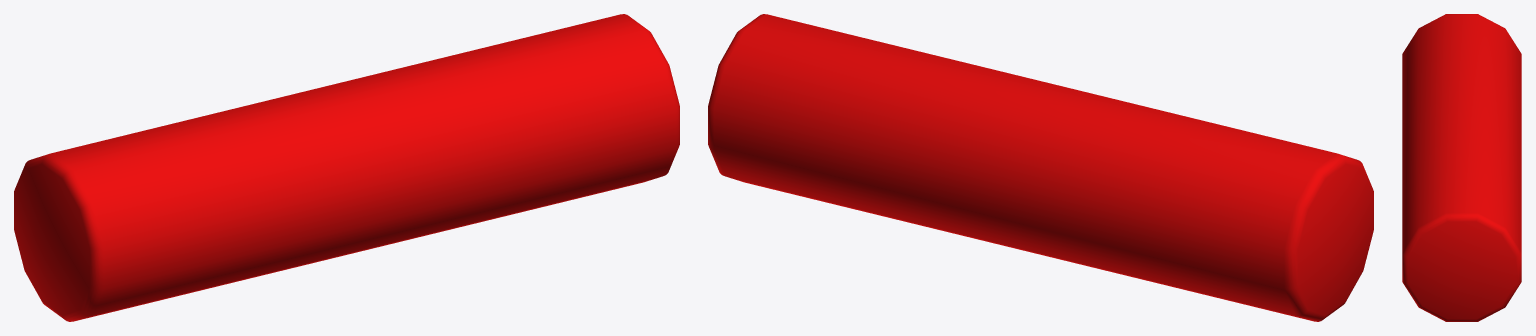
File: CylRot_S03_.fbx
The picture shows the model from 3 angles, left to right: view 1: azimuth 30°, elevation 25°; view 2: azimuth 150°, elevation 25°; view 3: azimuth 270°, elevation 25°; orthographic projection. The views are drawn at different scales.
Parts seen in each view (by area): view 1: CylRot_S03_; view 2: CylRot_S03_; view 3: CylRot_S03_.
Part boxes in pixels (x1,y1,x2,y2): CylRot_S03_: (14,14,679,321); CylRot_S03_: (708,14,1373,321); CylRot_S03_: (1402,14,1521,321).
Size of the model in its own units: 7.73 by 1.87 by 1.87.
